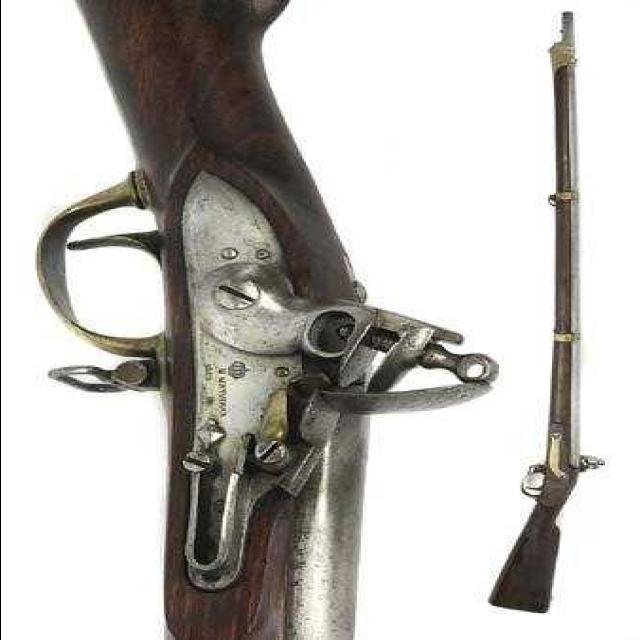heavyweapon: (1, 64, 446, 627), (471, 7, 613, 621)
